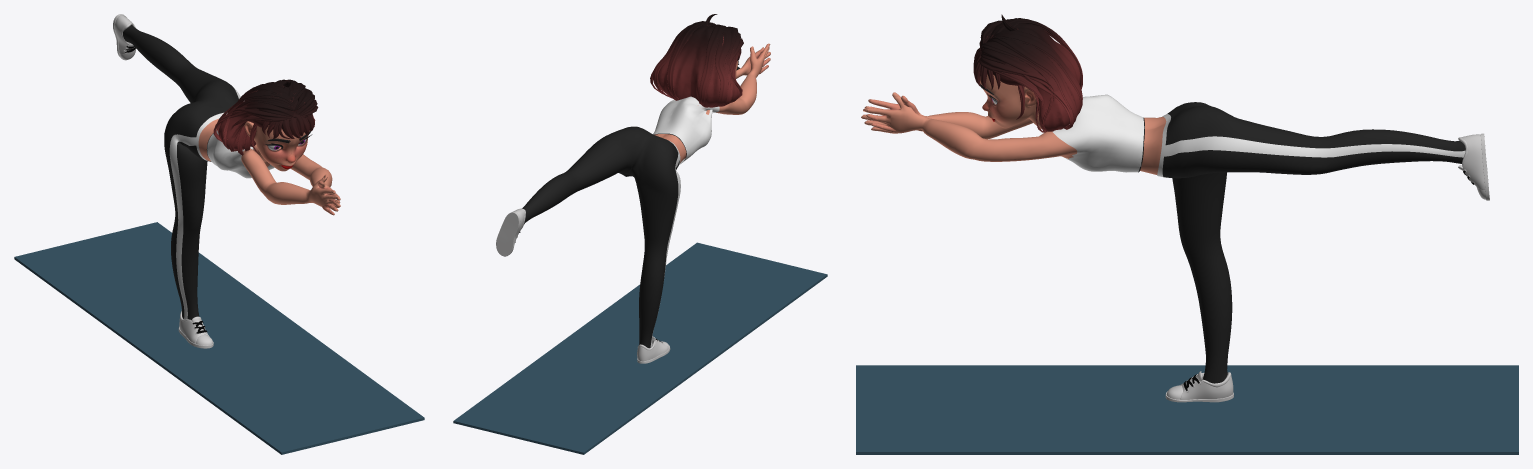
File: virabhadrasana3.glb
3 views of the same model, side by side, from view 1: azimuth 30°, elevation 25°; view 2: azimuth 150°, elevation 25°; view 3: azimuth 270°, elevation 25° (orthographic). The views are drawn at different scales.
Parts seen in each view (by area): view 1: Cube, BOT, base, hair, shoes, TOP; view 2: Cube, BOT, hair, TOP, base, shoes; view 3: Cube, BOT, base, hair, TOP, shoes.
Boxes of the visible parts, box(x1,y1,x2,y2) form: Cube: box(14, 222, 424, 454); BOT: box(123, 25, 240, 320); base: box(198, 118, 340, 215); hair: box(213, 79, 318, 155); shoes: box(113, 14, 213, 348); TOP: box(206, 130, 274, 178); Cube: box(453, 242, 827, 454); BOT: box(522, 126, 680, 348); hair: box(650, 14, 743, 107); TOP: box(653, 96, 719, 164); base: box(654, 43, 770, 162); shoes: box(496, 208, 670, 363); Cube: box(856, 365, 1518, 454); BOT: box(1157, 102, 1465, 383); base: box(861, 74, 1166, 174); hair: box(973, 14, 1082, 132); TOP: box(1052, 94, 1144, 172); shoes: box(1165, 133, 1489, 402).
Size of the model in its own units: 4.93 by 10.4 by 15.97.
Materials: 11 (2 with a texture image).
